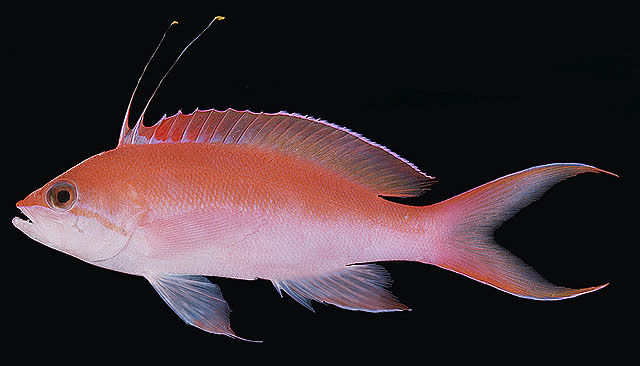fish: (12, 18, 621, 343)
